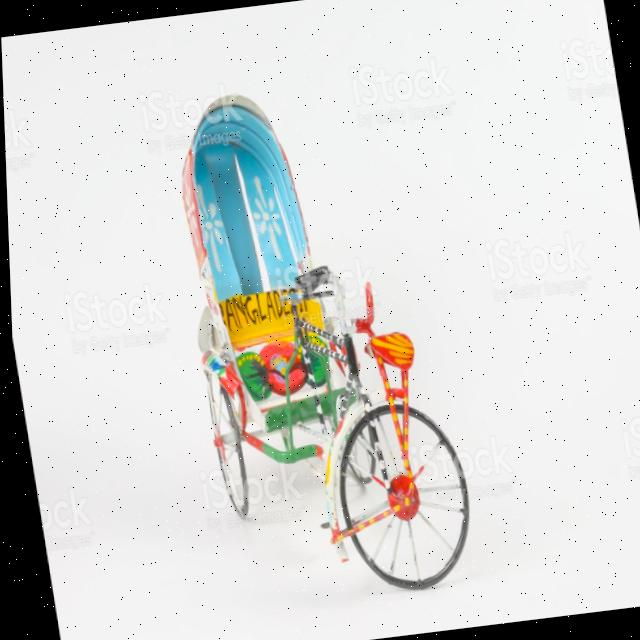rikshaw: (144, 61, 498, 640)
